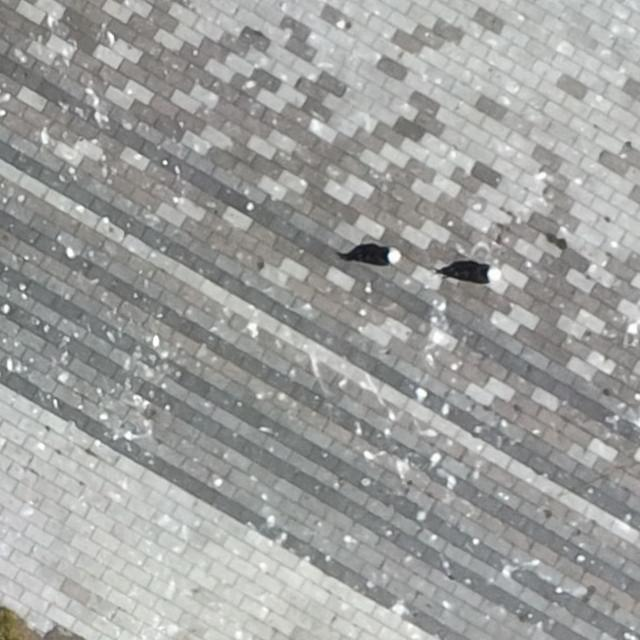umineko: (446, 262, 495, 283), (353, 244, 399, 264)
